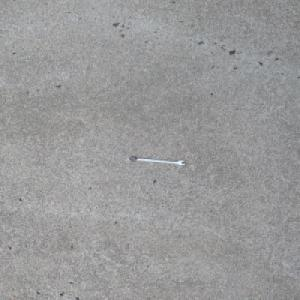Wrench: (126, 156, 186, 166)
